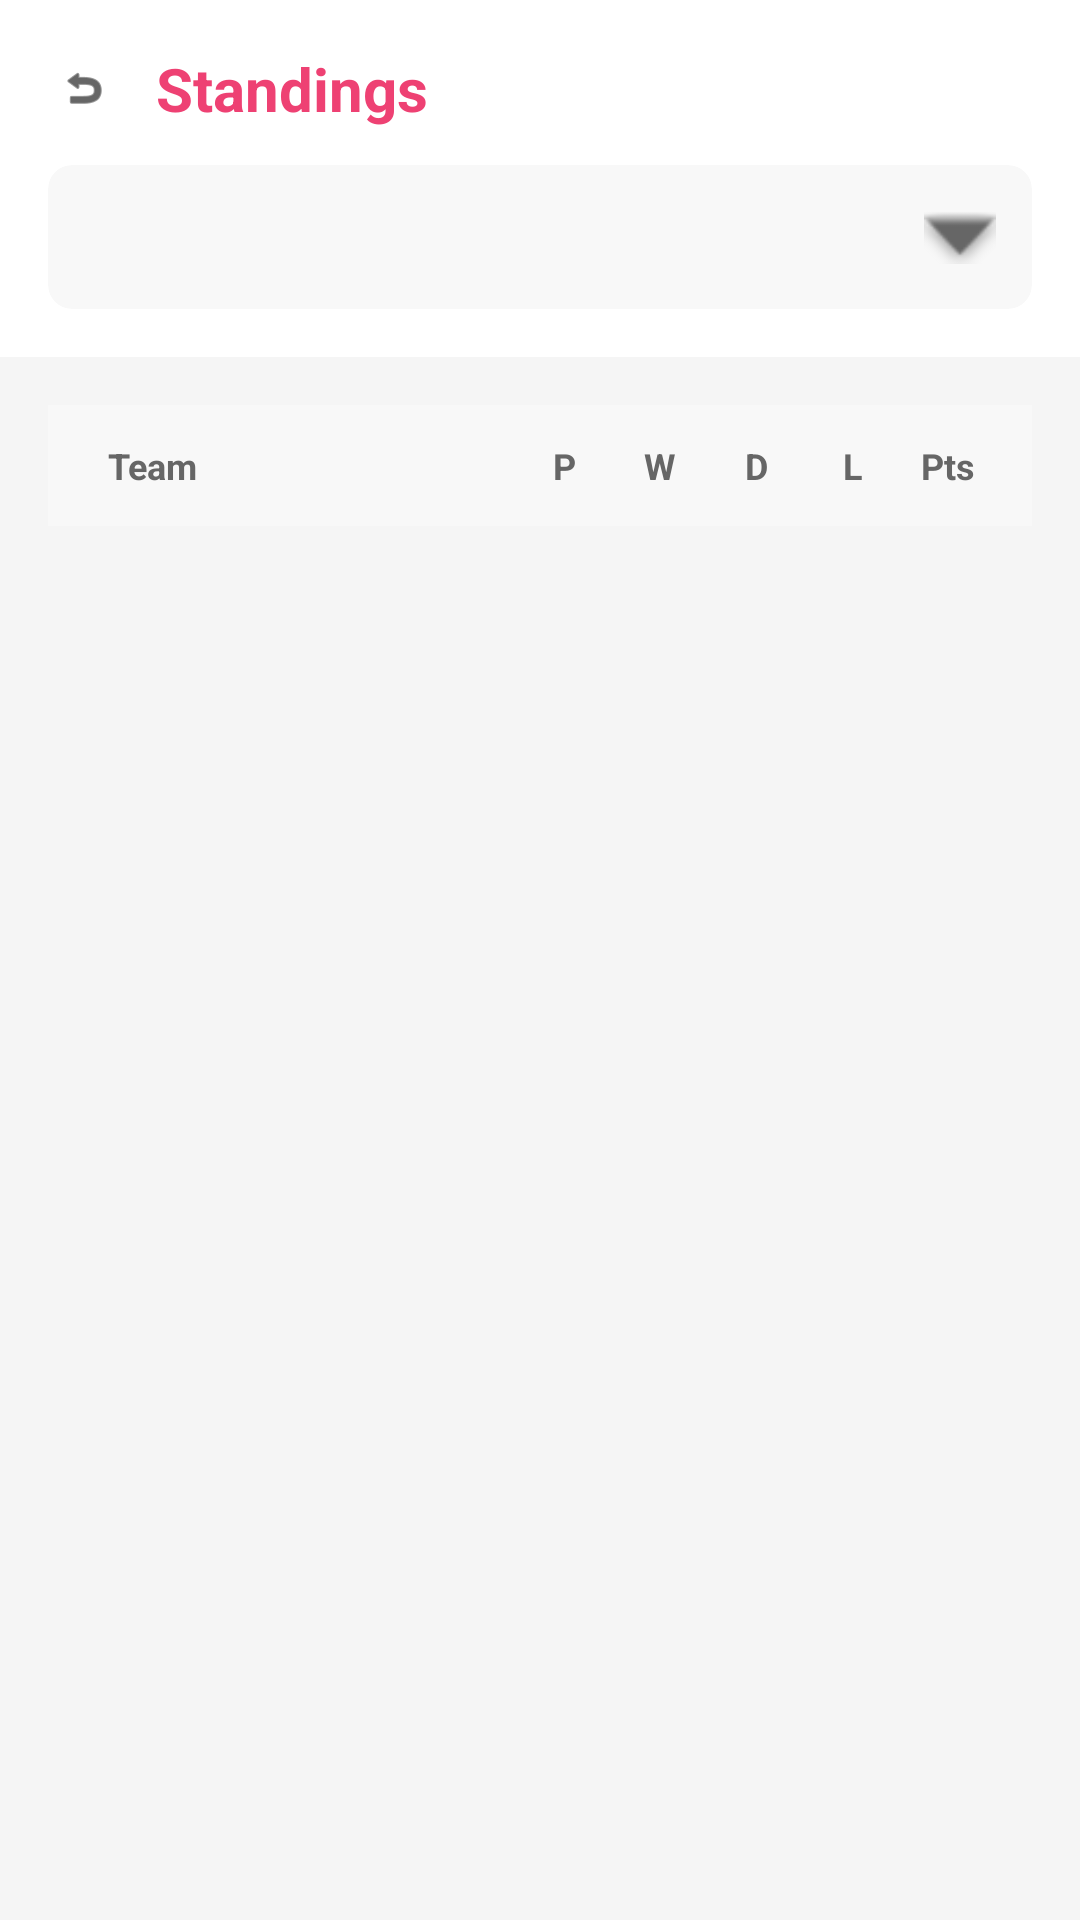

Where icons sit on this 1080px x 1920px app screen, as (x1, y1, x2, y2):
arrow down float: (924, 214, 996, 258)
revert: (67, 73, 102, 104)
